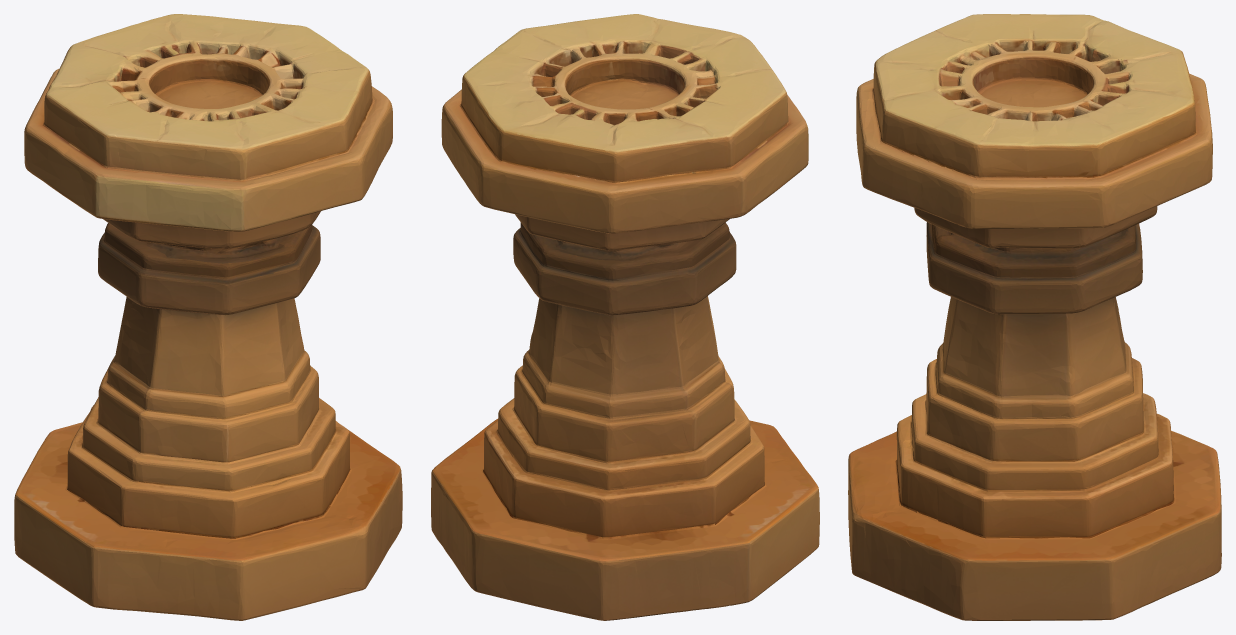
File: deepasthambha-lamp-pillar-base-optimized.glb
3 views of the same model, side by side, from view 1: azimuth 30°, elevation 25°; view 2: azimuth 150°, elevation 25°; view 3: azimuth 270°, elevation 25° (orthographic).
Visible parts, largest first — view 1: 2788805e-50d8-473e-a5ac-1e7e65645b94_texturing.obj; view 2: 2788805e-50d8-473e-a5ac-1e7e65645b94_texturing.obj; view 3: 2788805e-50d8-473e-a5ac-1e7e65645b94_texturing.obj.
Part boxes in pixels (x1,y1,x2,y2): 2788805e-50d8-473e-a5ac-1e7e65645b94_texturing.obj: (14, 14, 402, 620); 2788805e-50d8-473e-a5ac-1e7e65645b94_texturing.obj: (431, 14, 819, 620); 2788805e-50d8-473e-a5ac-1e7e65645b94_texturing.obj: (848, 14, 1221, 620).
Bounding box in the file's own units: 2.03 × 2.8 × 2.03.
Materials: 1 (1 with a texture image).
